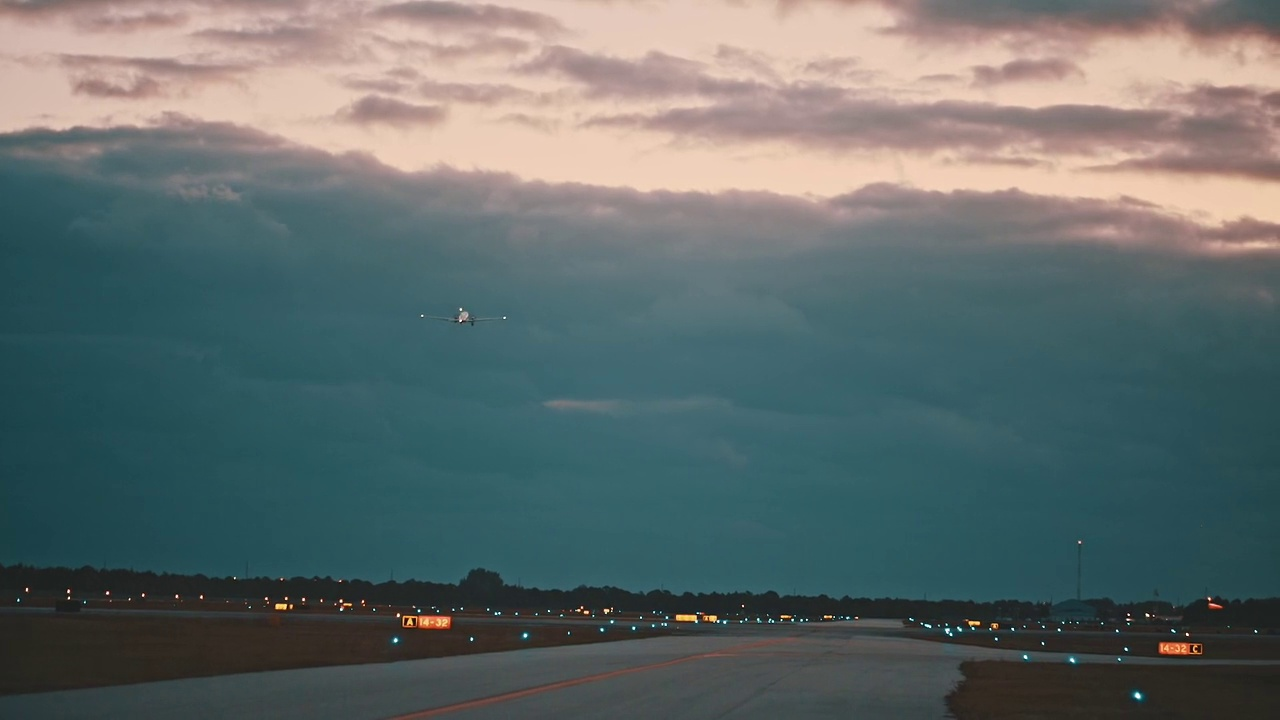plane: (419, 307, 510, 326)
